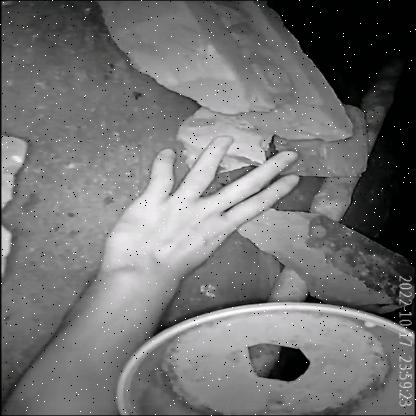hand: (46, 117, 306, 416)
